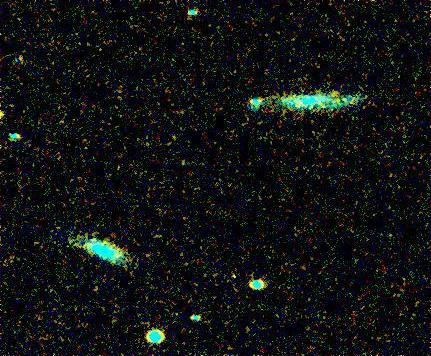star: (319, 79, 349, 109)
